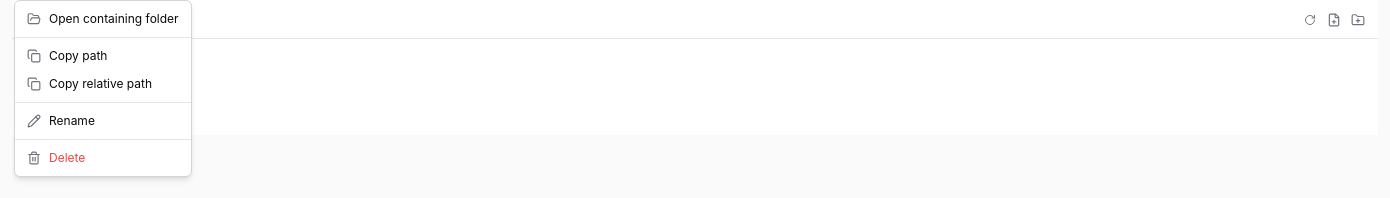
Scenario: the context menu › does not touch the filesystem when the name is unchanged
Later steps or results of the test are not shown.
expect the menu is shown: met, box x1=14 y1=0 x2=192 y2=177
Click the menu item "Rename": click(61, 120) x1=27 y1=113 x2=95 y2=128
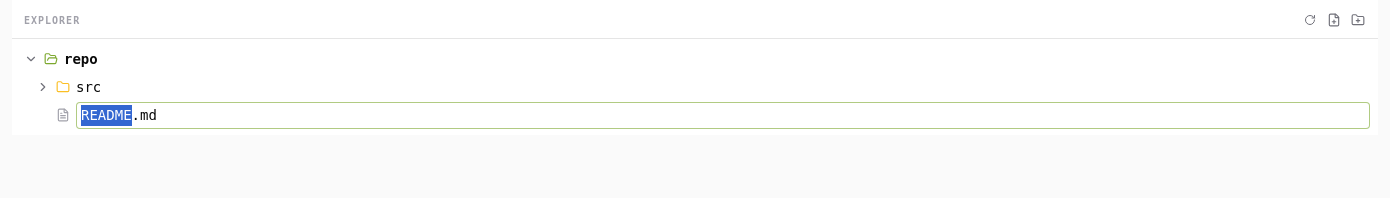
Clear the field showing "README.md": (723, 115) x1=76 y1=102 x2=1370 y2=128
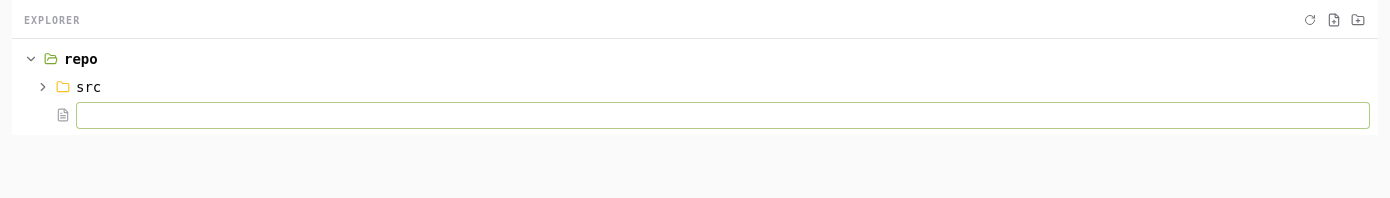
Type keys "README.md"
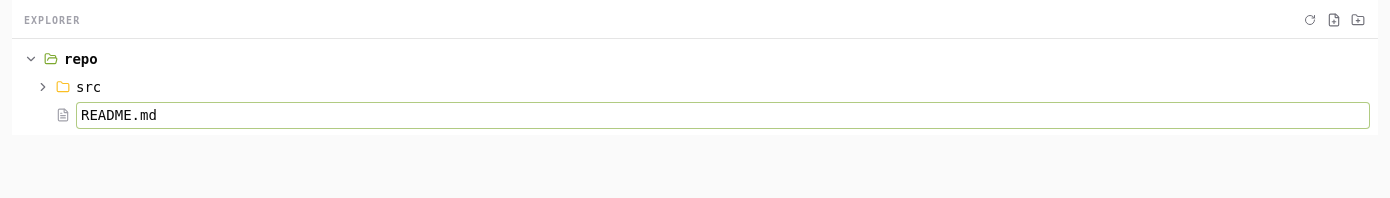
expect the field showing "README.md" holds "README.md": met, box x1=76 y1=102 x2=1370 y2=128
